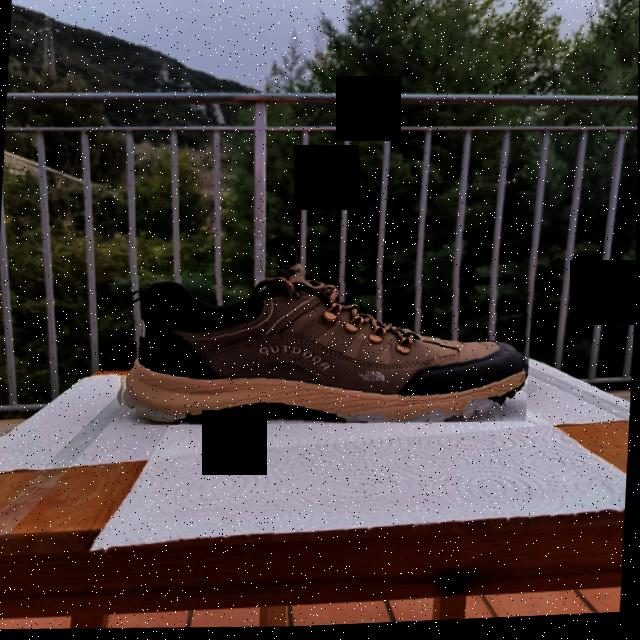shoe: (115, 249, 534, 440)
